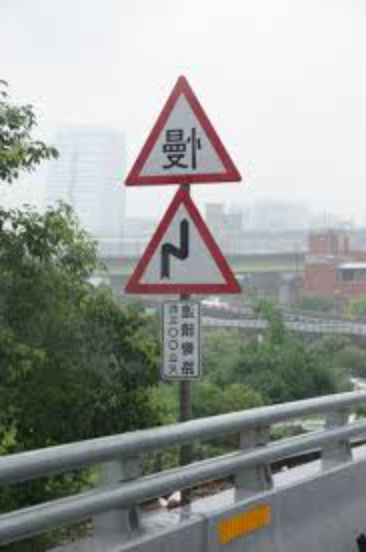Double_bend_right: (124, 188, 244, 295)
